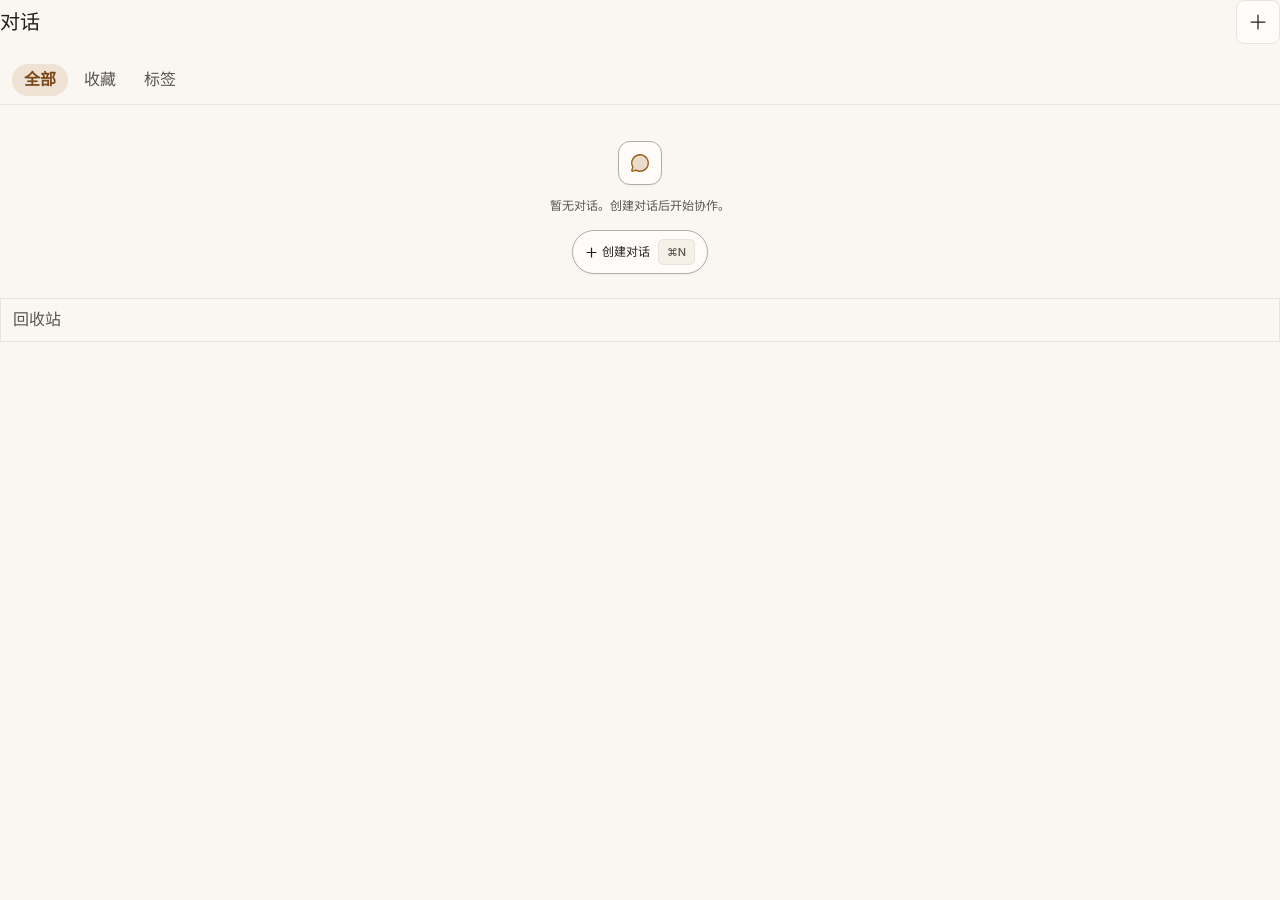
persistent project thread list and creation › creates a home conversation with its sole Agent and no policy picker
The image size is (1280, 900).
Expected: the text "暂无对话。创建对话后开始协作。" is shown, x1=550 y1=197 x2=730 y2=214
Click the button "创建对话 ⌘N": point(640, 252) x1=572 y1=230 x2=708 y2=274
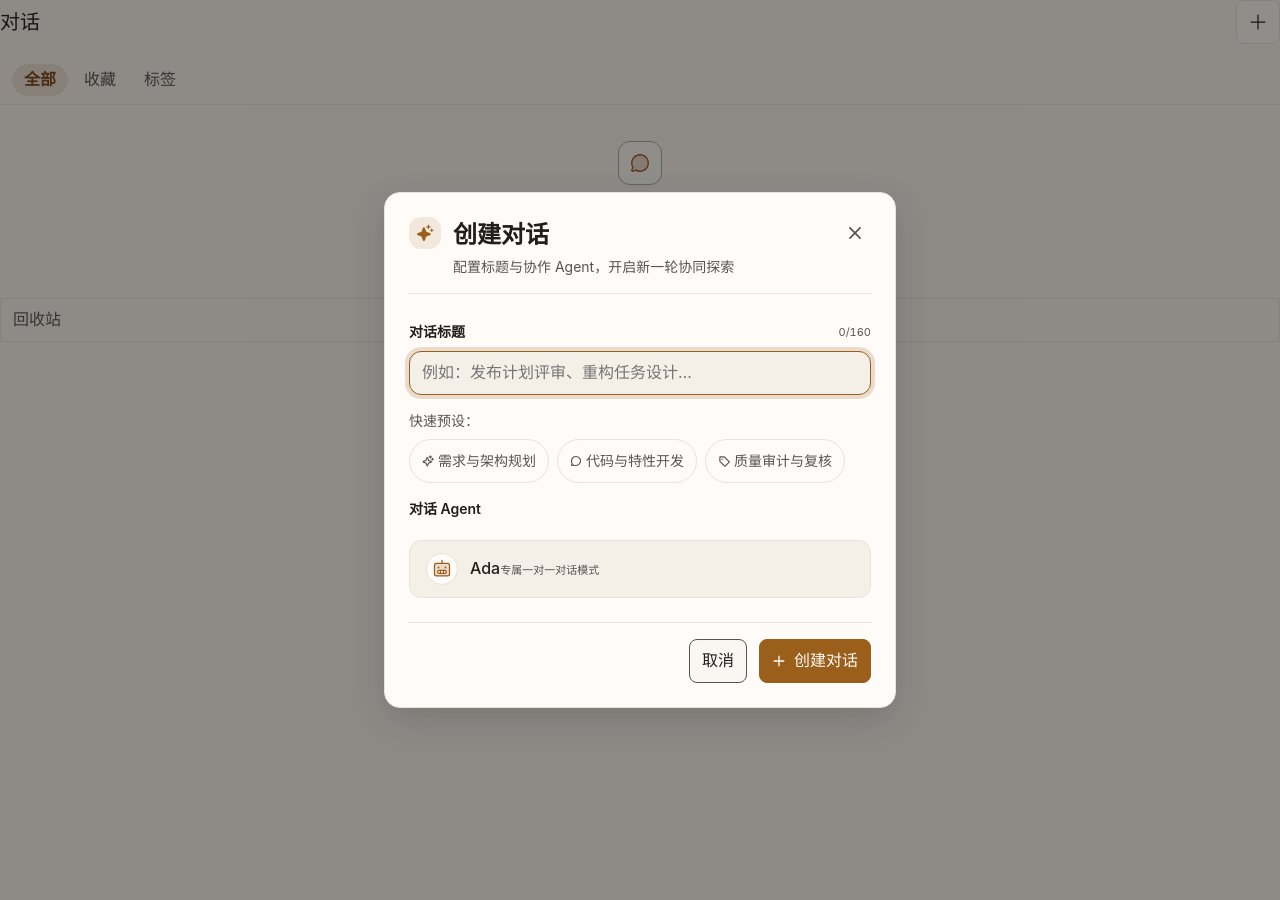
Now the text "Ada" is shown, box x1=470 y1=558 x2=500 y2=578
In the field labelled "对话标题": point(640, 373) x1=409 y1=351 x2=871 y2=395, type "Personal chat"
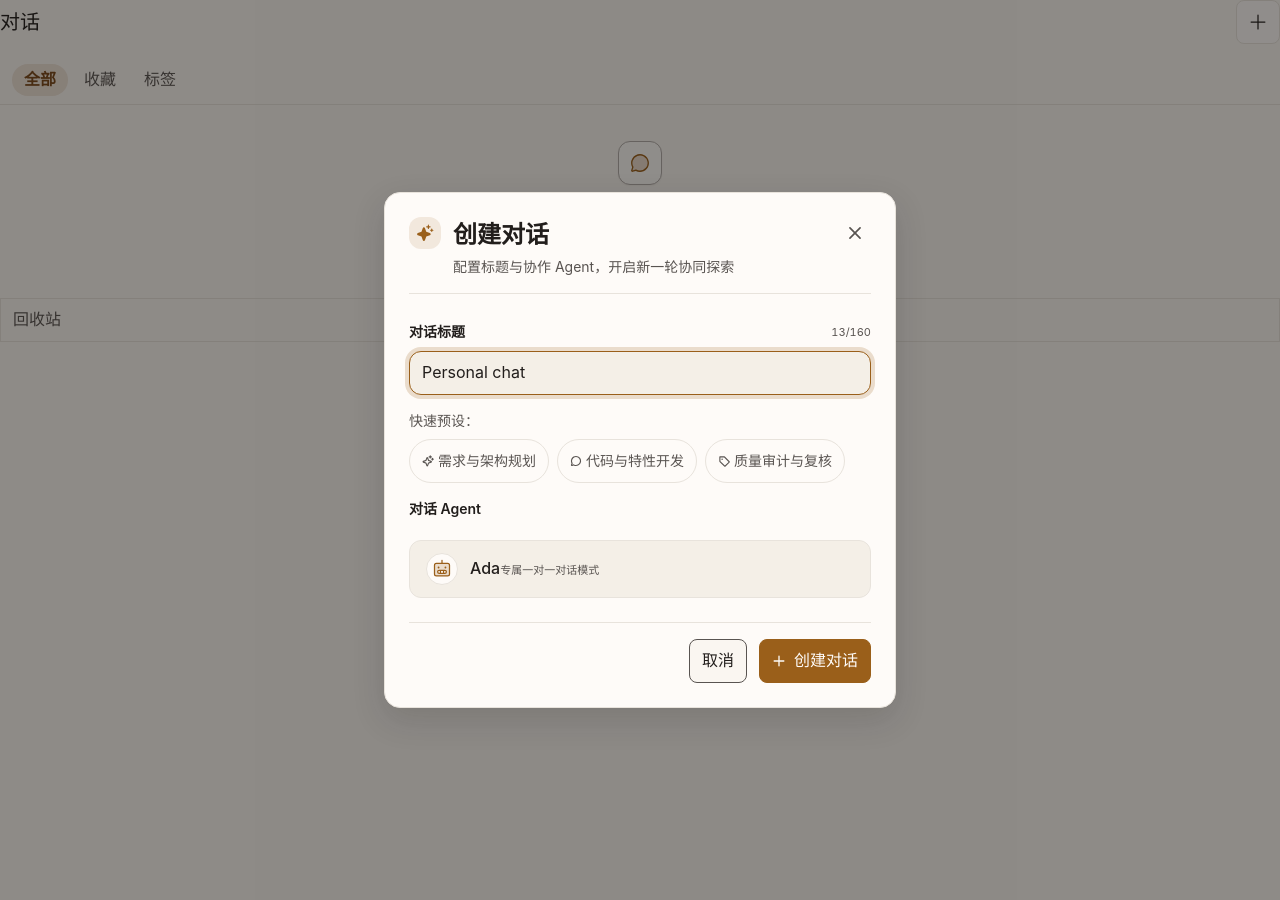
Click the button "创建对话": point(815, 661) x1=759 y1=639 x2=871 y2=683
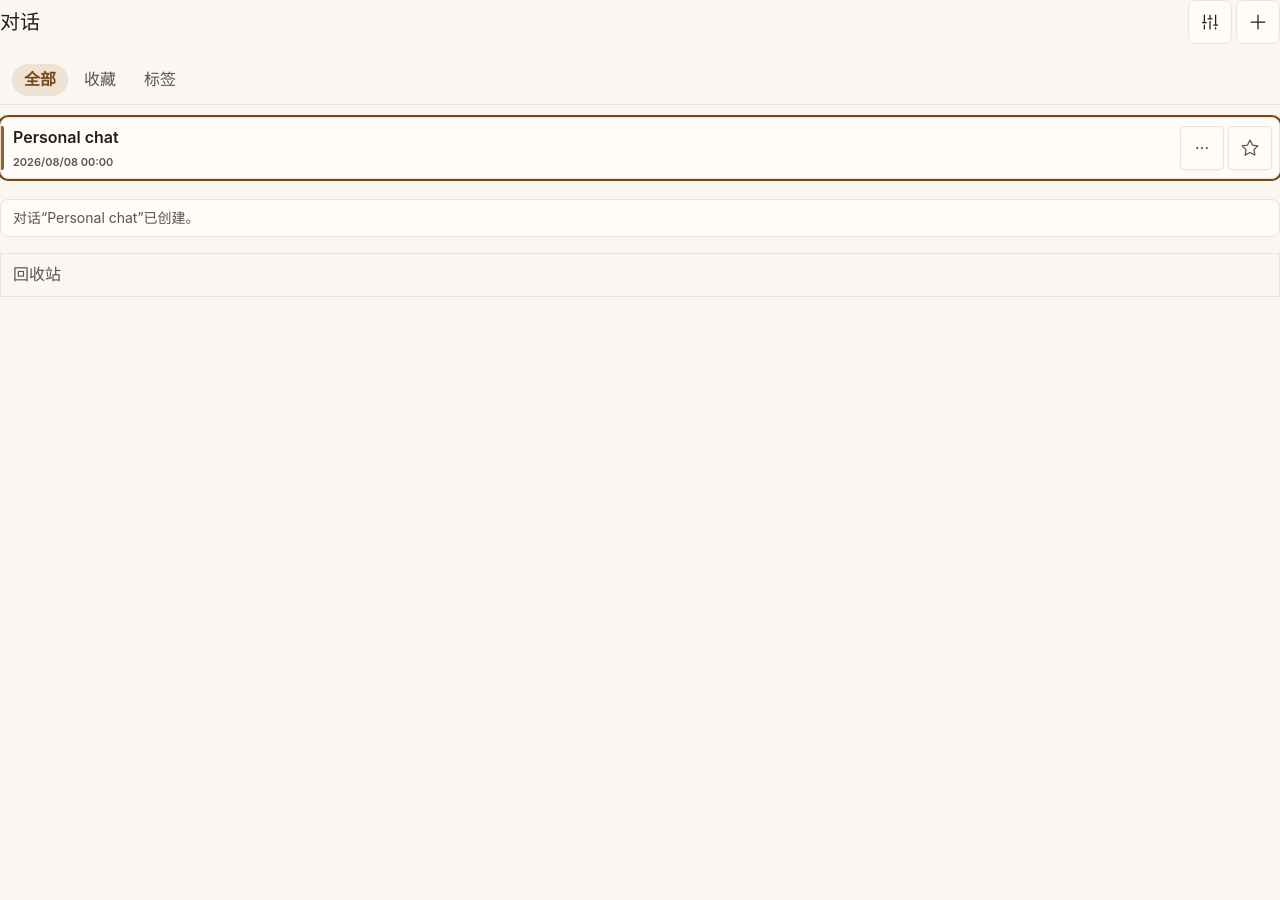
Now the button "Personal chat 2026/08/08 00:00" is shown, box x1=0 y1=117 x2=1279 y2=179
